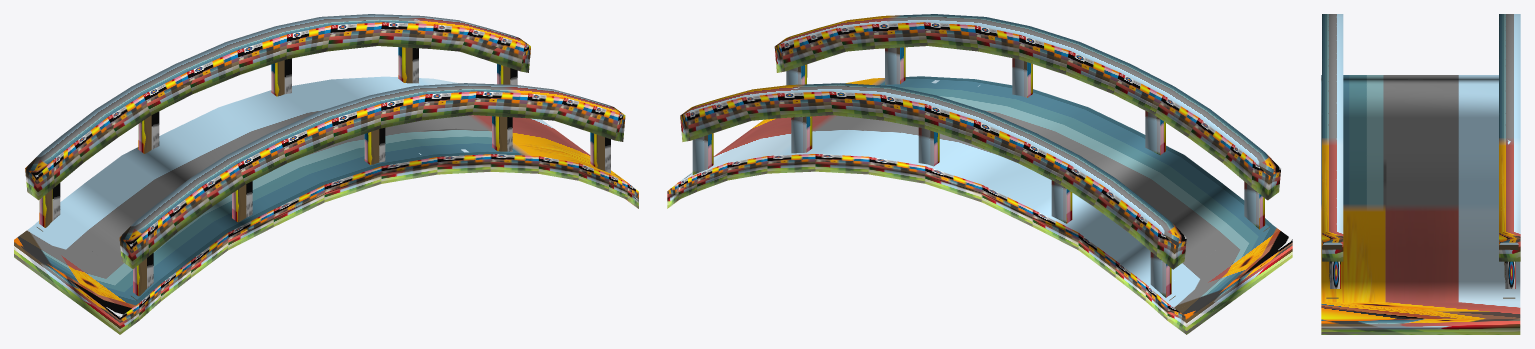
Rendered from model_polytope_snow_wood_bridge.fbx.
3 views of the same model, side by side, from view 1: azimuth 30°, elevation 25°; view 2: azimuth 150°, elevation 25°; view 3: azimuth 270°, elevation 25° (orthographic). The views are drawn at different scales.
Visible parts, largest first — view 1: model_polytope_snow_wood_bridge_col, model_polytope_snow_wood_bridge; view 2: model_polytope_snow_wood_bridge_col; view 3: model_polytope_snow_wood_bridge_col, model_polytope_snow_wood_bridge.
Boxes of the visible parts, x1,y1,x2,y2 form: model_polytope_snow_wood_bridge_col: (14, 14, 638, 334); model_polytope_snow_wood_bridge: (37, 19, 620, 300); model_polytope_snow_wood_bridge_col: (667, 14, 1292, 334); model_polytope_snow_wood_bridge_col: (1321, 14, 1520, 334); model_polytope_snow_wood_bridge: (1323, 140, 1518, 298).
Bounding box in the file's own units: 929 × 287 × 329.
Materials: 1 (1 with a texture image).
